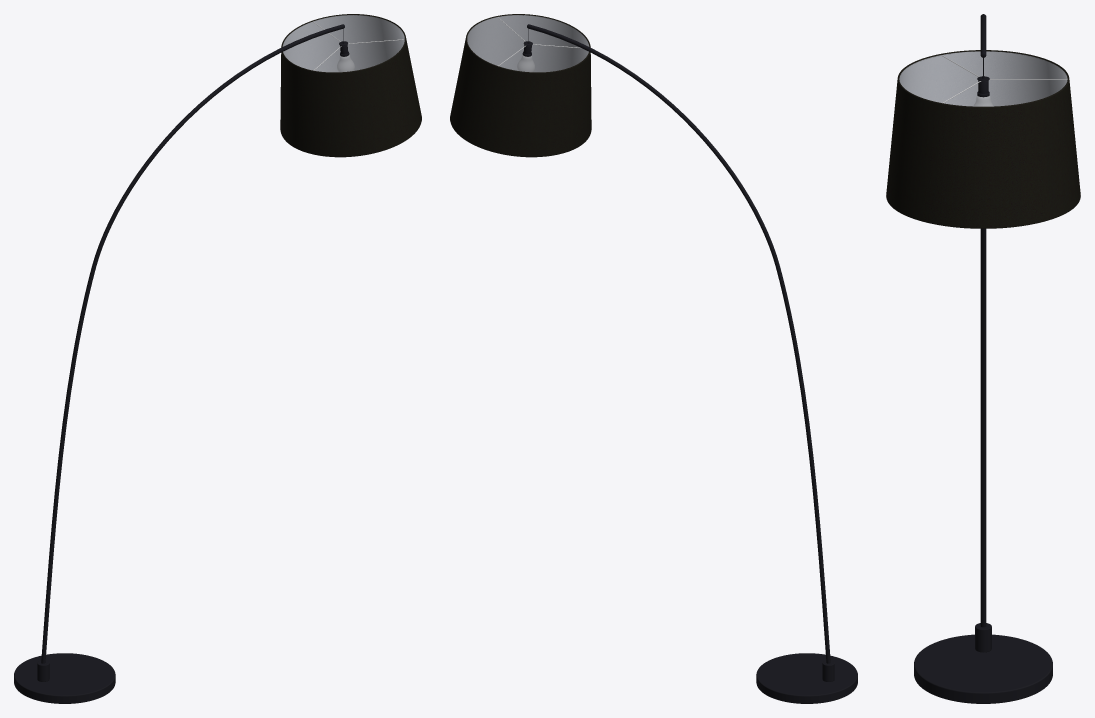
The model's file is lamp.glb.
3 views of the same model, side by side, from view 1: azimuth 30°, elevation 25°; view 2: azimuth 150°, elevation 25°; view 3: azimuth 270°, elevation 25° (orthographic). The views are drawn at different scales.
Parts seen in each view (by area): view 1: Cylinder.001; view 2: Cylinder.001; view 3: Cylinder.001.
Boxes of the visible parts, x1,y1,x2,y2 form: Cylinder.001: (14, 14, 421, 703); Cylinder.001: (450, 14, 857, 703); Cylinder.001: (886, 14, 1080, 703).
Size of the model in its own units: 1.47 by 2.12 by 0.4617.
Materials: 2 (2 with a texture image).
